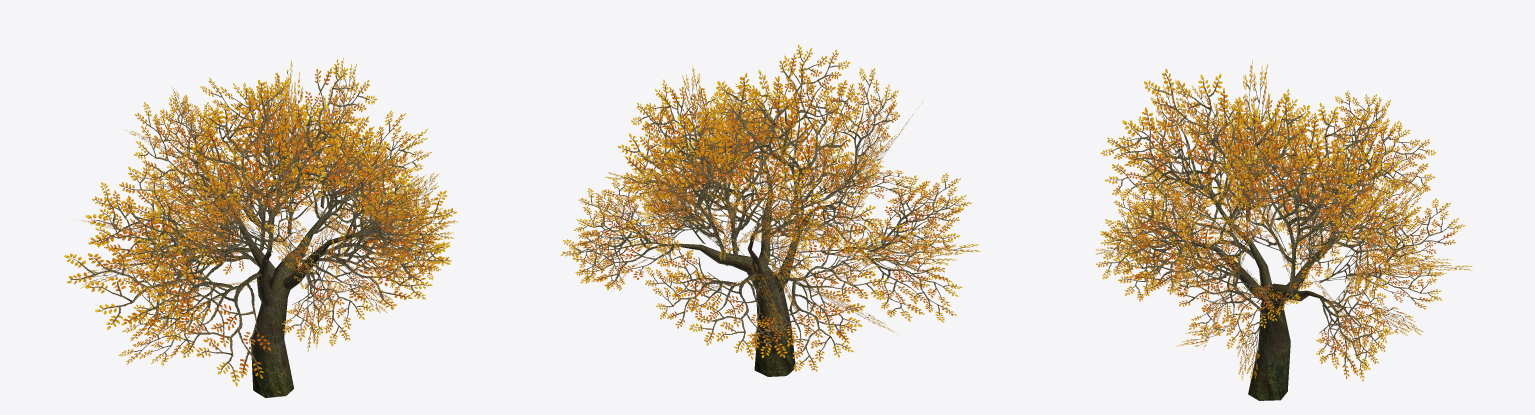
File: tre_tree08.glb
3 views of the same model, side by side, from view 1: azimuth 30°, elevation 25°; view 2: azimuth 150°, elevation 25°; view 3: azimuth 270°, elevation 25° (orthographic). The views are drawn at different scales.
Visible parts, largest first — view 1: tre_tree08; view 2: tre_tree08; view 3: tre_tree08.
Part boxes in pixels (bbox=[...]): tre_tree08: bbox=[64, 58, 457, 397]; tre_tree08: bbox=[560, 44, 979, 376]; tre_tree08: bbox=[1095, 60, 1472, 400].
Bounding box in the file's own units: 37.68 × 33.19 × 37.45.
3 materials, 3 textured.
